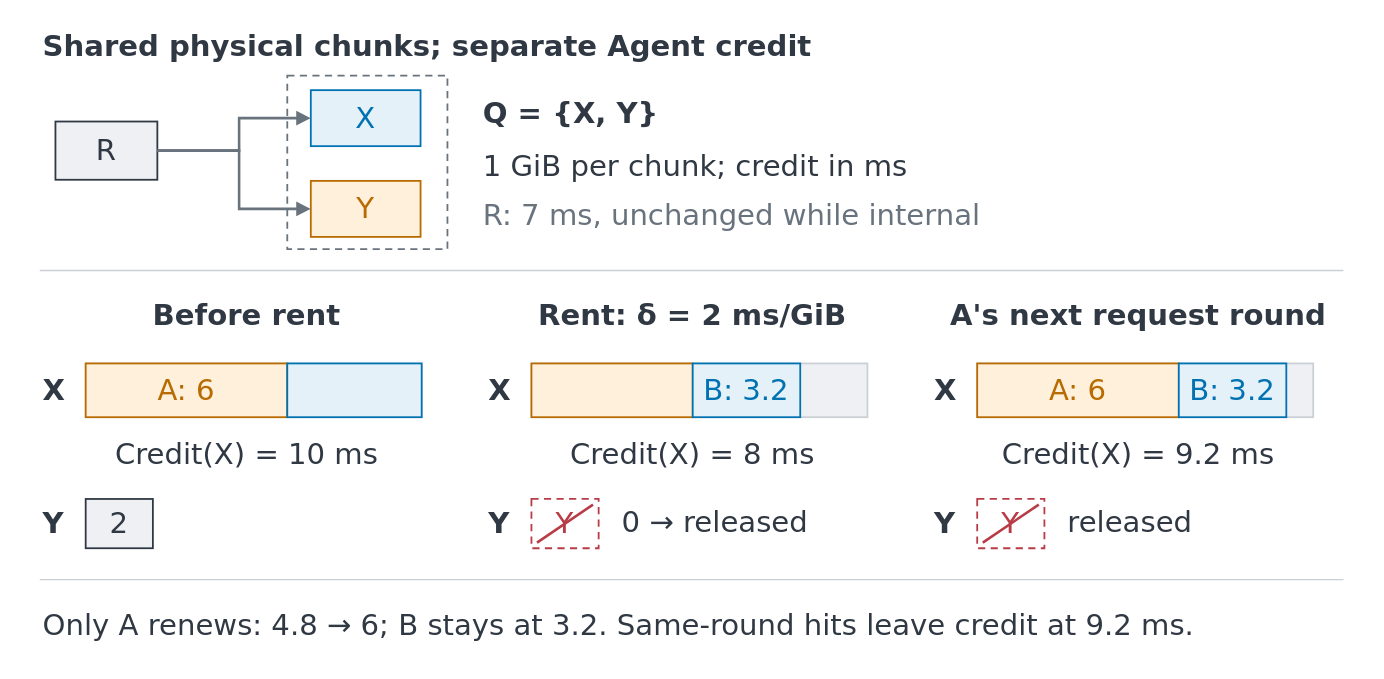
Some shapes in this 1384 by 679 pixel diagram are drawn without their labels. Here are the shapes that lost their labels. From the top down, the centre of each, then its label:
(354,390): B: 4
(611,390): A: 4.8
